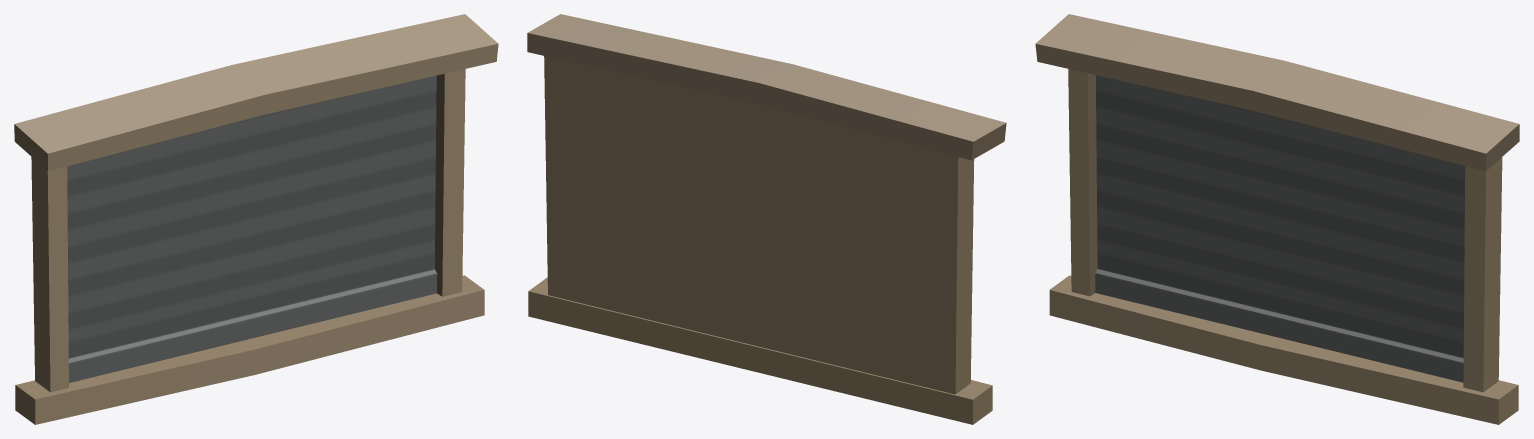
The model's file is Door_B05.fbx.
3 views of the same model, side by side, from view 1: azimuth 30°, elevation 25°; view 2: azimuth 150°, elevation 25°; view 3: azimuth 330°, elevation 25° (orthographic).
Visible parts, largest first — view 1: Door_B05; view 2: Door_B05; view 3: Door_B05.
Boxes of the visible parts, <box> form: Door_B05: <box>14,14,498,424</box>; Door_B05: <box>527,14,1006,424</box>; Door_B05: <box>1035,14,1519,424</box>.
Size of the model in its own units: 554 by 344 by 73.61.
